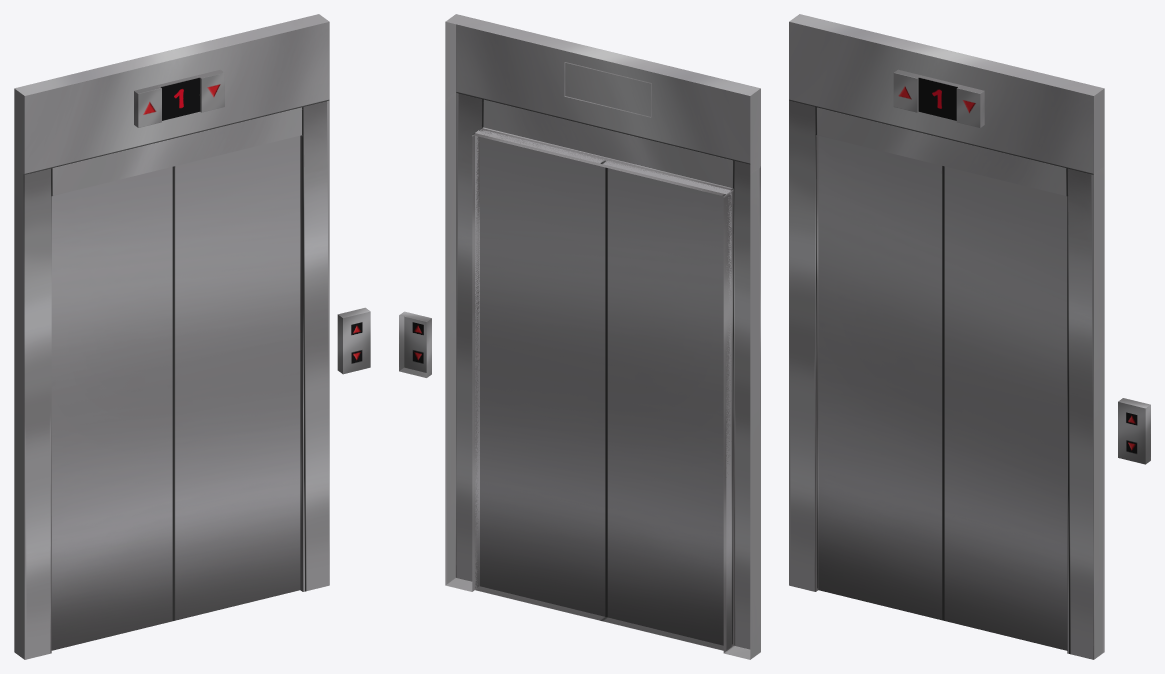
The model's file is Elevator Door.fbx.
3 views of the same model, side by side, from view 1: azimuth 30°, elevation 25°; view 2: azimuth 150°, elevation 25°; view 3: azimuth 330°, elevation 25° (orthographic).
Parts seen in each view (by area): view 1: Object001; view 2: Object001; view 3: Object001.
Boxes of the visible parts, <box> form: Object001: <box>14,14,370,659</box>; Object001: <box>399,14,760,659</box>; Object001: <box>789,14,1150,659</box>.
Size of the model in its own units: 383 by 588 by 28.46.
